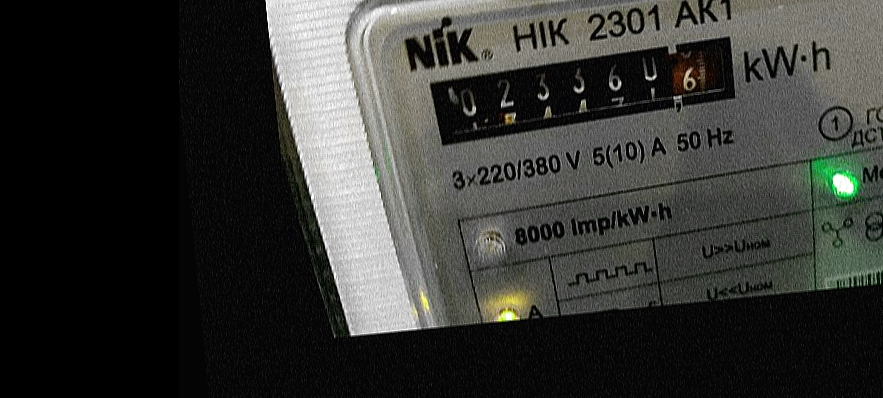0: (457, 83, 482, 119), (638, 51, 663, 84)
2: (495, 74, 518, 109)
3: (568, 60, 590, 95), (531, 70, 553, 102)
6: (603, 58, 627, 93), (679, 60, 703, 95)
screen: (412, 25, 758, 153)
